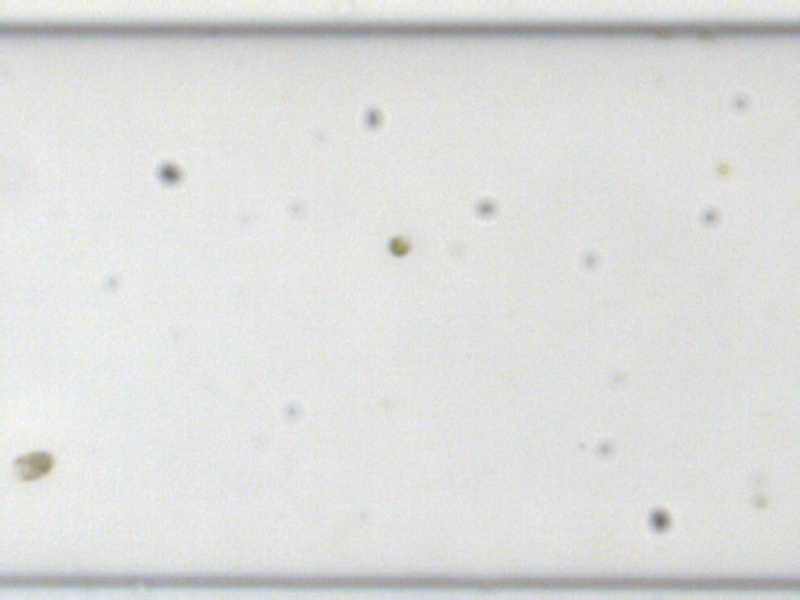Chlorella: (387, 234, 408, 254), (749, 492, 767, 507), (715, 161, 727, 172)
Dunaliella salina: (12, 448, 55, 481)
